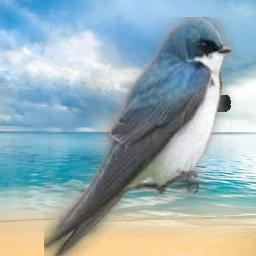Crow: (178, 55, 231, 112)
Swallow: (44, 17, 234, 256)
